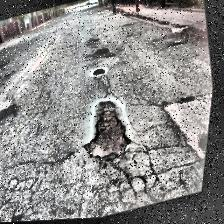pothole: (77, 94, 141, 168), (90, 64, 110, 80)
